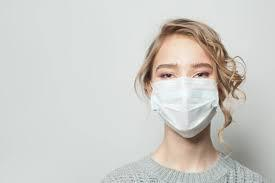mask: (148, 73, 230, 137)
